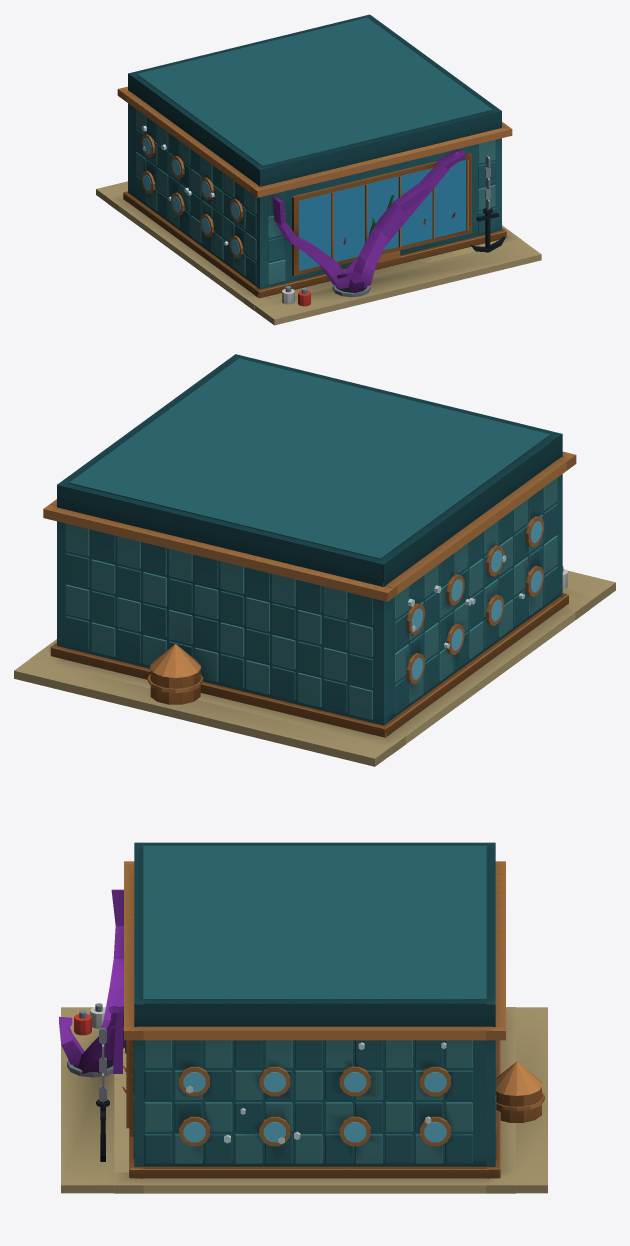
File: SubwayOctopusFloor.fbx
The picture shows the model from 3 angles, top to bottom: view 1: azimuth 30°, elevation 25°; view 2: azimuth 150°, elevation 25°; view 3: azimuth 270°, elevation 25°; orthographic projection. The views are drawn at different scales.
Visible parts, largest first — view 1: OC_S_All, OC_F_Rings, OC_F_Quiet, OC_F_Smooth, OC_F_Props, OC_F_Glass; view 2: OC_F_Rings, OC_S_All, OC_F_Quiet, OC_F_Smooth, OC_F_Props, OC_F_Glass; view 3: OC_S_All, OC_F_Rings, OC_F_Quiet, OC_F_Smooth, OC_F_Props, OC_F_Glass.
Boxes of the visible parts, bbox=[...] form: OC_S_All: bbox=[108, 17, 521, 310]; OC_F_Rings: bbox=[117, 74, 511, 291]; OC_F_Quiet: bbox=[96, 14, 540, 319]; OC_F_Smooth: bbox=[96, 116, 541, 325]; OC_F_Props: bbox=[272, 148, 505, 306]; OC_F_Glass: bbox=[142, 125, 239, 255]; OC_F_Rings: bbox=[44, 434, 576, 737]; OC_S_All: bbox=[30, 358, 588, 754]; OC_F_Quiet: bbox=[14, 354, 615, 758]; OC_F_Smooth: bbox=[14, 487, 615, 766]; OC_F_Props: bbox=[150, 568, 567, 704]; OC_F_Glass: bbox=[408, 521, 542, 679]; OC_S_All: bbox=[113, 845, 515, 1193]; OC_F_Rings: bbox=[124, 861, 505, 1169]; OC_F_Quiet: bbox=[61, 842, 547, 1185]; OC_F_Smooth: bbox=[61, 1003, 547, 1193]; OC_F_Props: bbox=[59, 889, 542, 1161]; OC_F_Glass: bbox=[183, 1042, 446, 1144].
Size of the model in its own units: 60 by 20 by 60.
